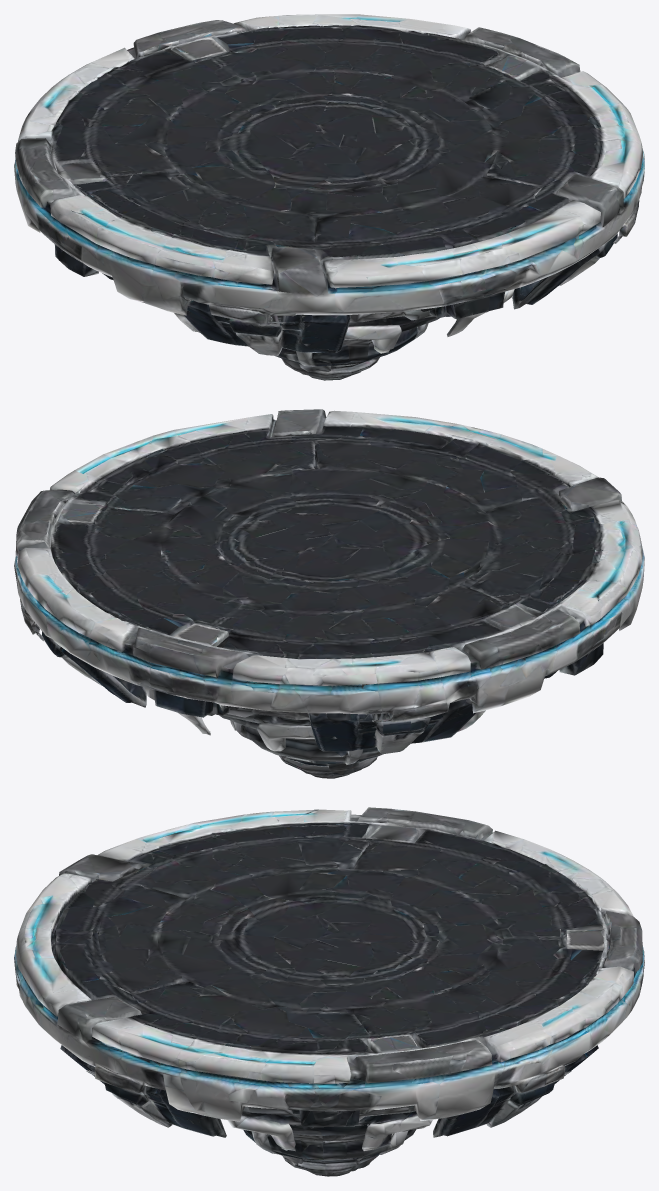
The model's file is floating_platform.glb.
3 views of the same model, one above another, from view 1: azimuth 30°, elevation 25°; view 2: azimuth 150°, elevation 25°; view 3: azimuth 270°, elevation 25° (orthographic).
Bounding box in the file's own units: 1.9 × 0.7782 × 1.9.
1 material, 1 textured.
